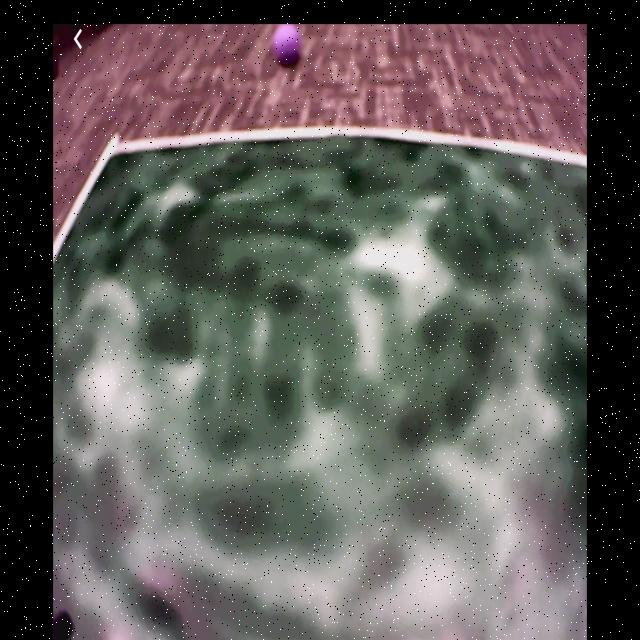ball: (275, 27, 302, 71)
